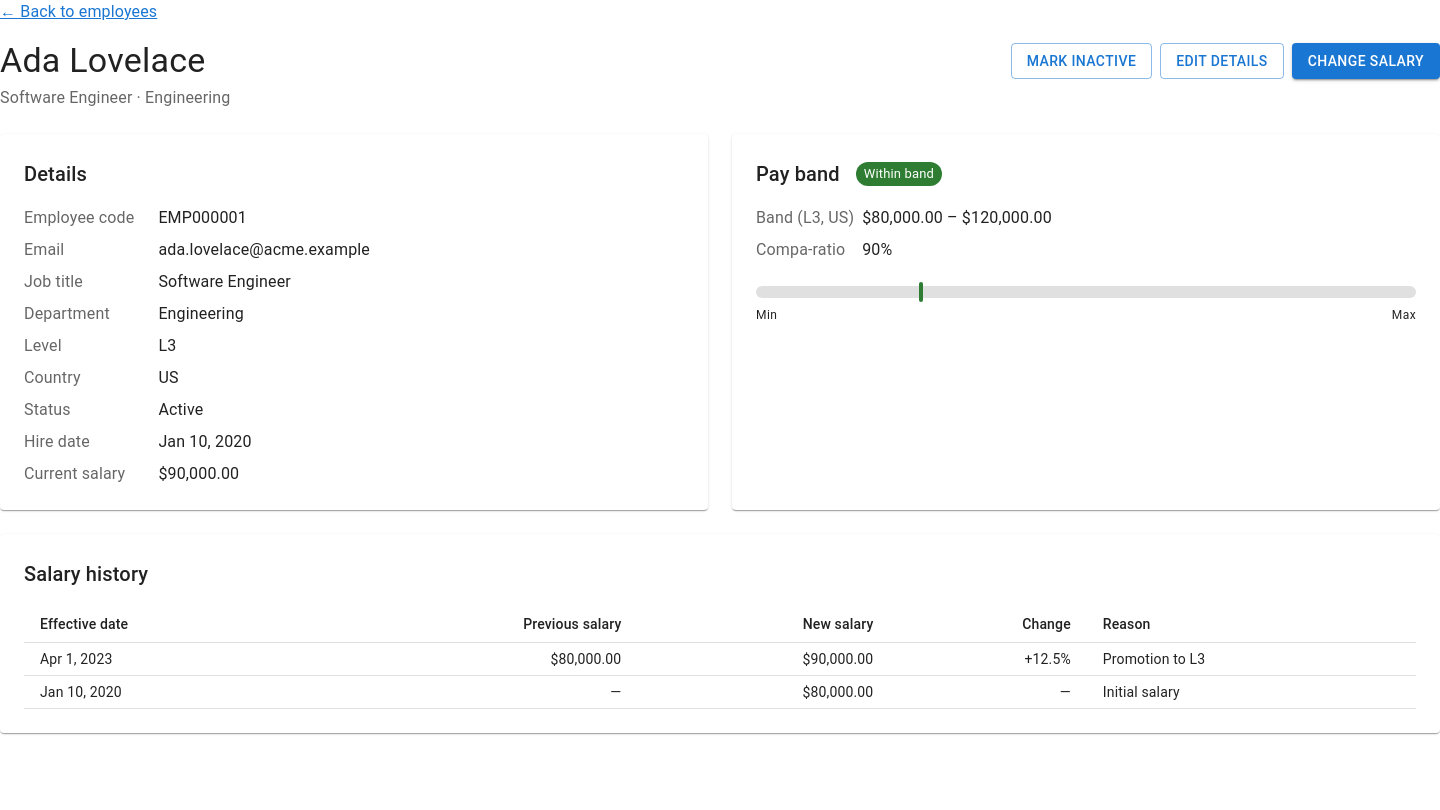
Scenario: Edit details dialog › keeps Save disabled until something changes
This screenshot has width=1440, height=810.
Click the button "Edit details" at (1222,61), box top-left (1160, 43), bottom-right (1284, 79)
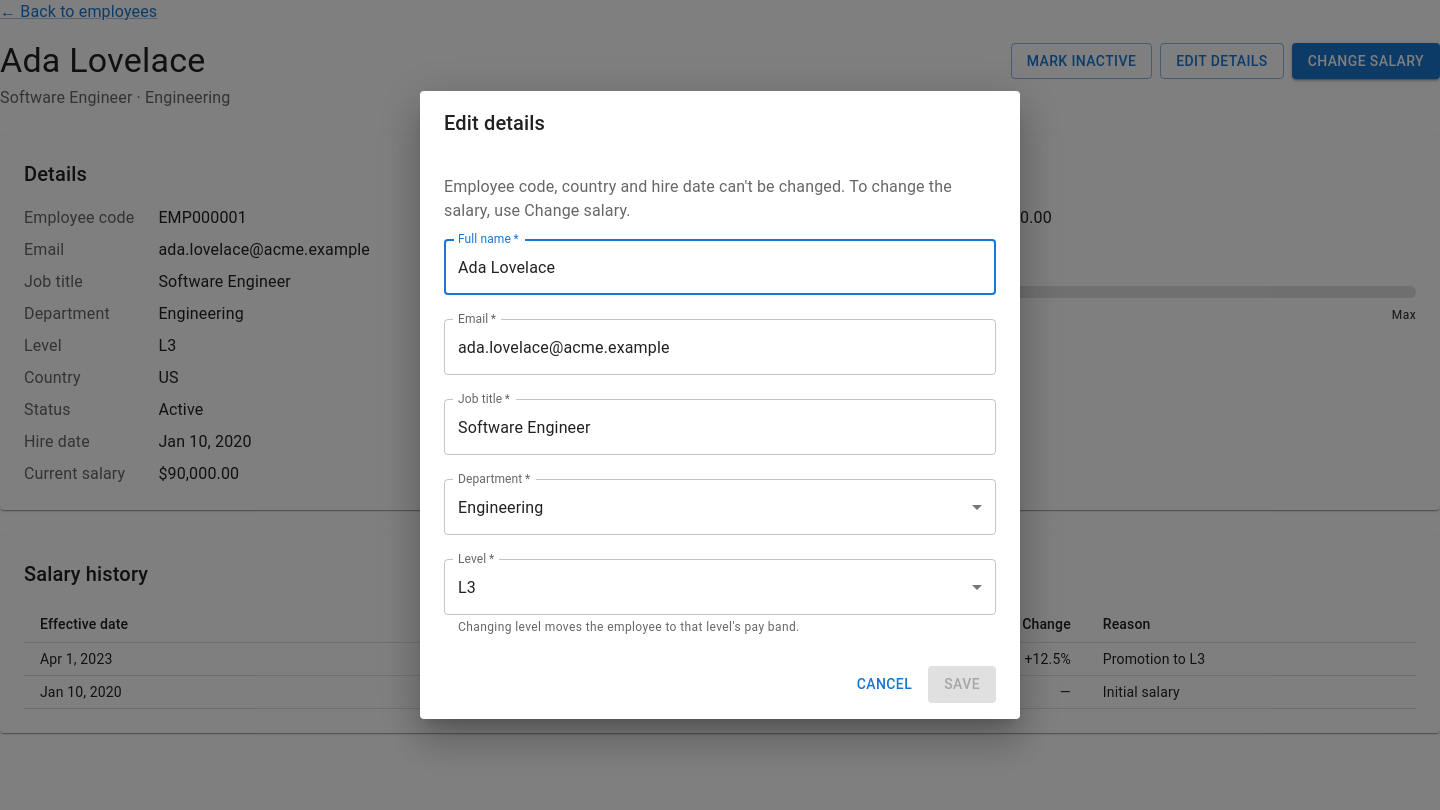
Result: the button "Save" is disabled at top-left (928, 666), bottom-right (996, 703)
Replace the text in the field labelled "Job title *" with "Staff Engineer" at (720,427), box top-left (444, 399), bottom-right (996, 455)
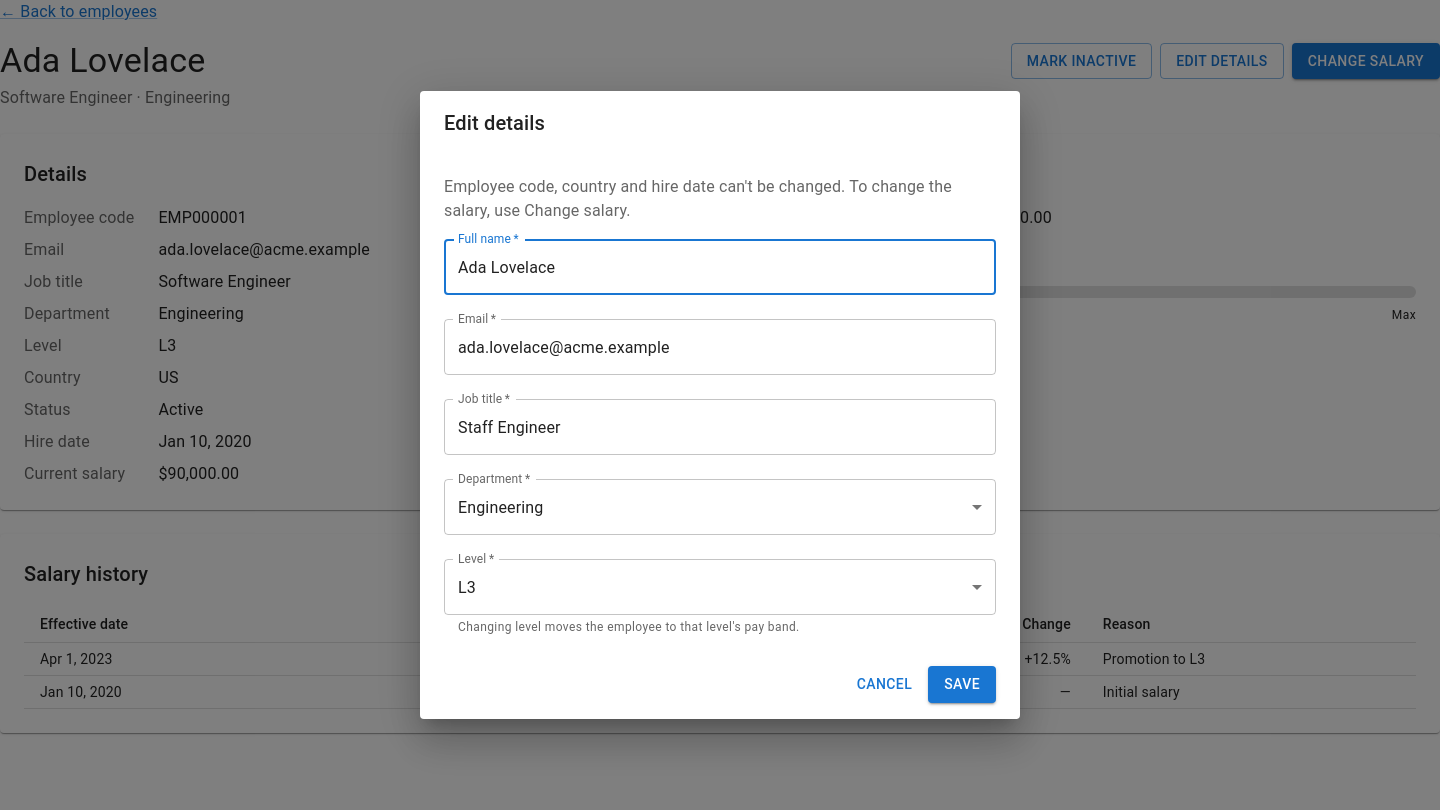
Result: the button "Save" is enabled at top-left (928, 666), bottom-right (996, 703)
